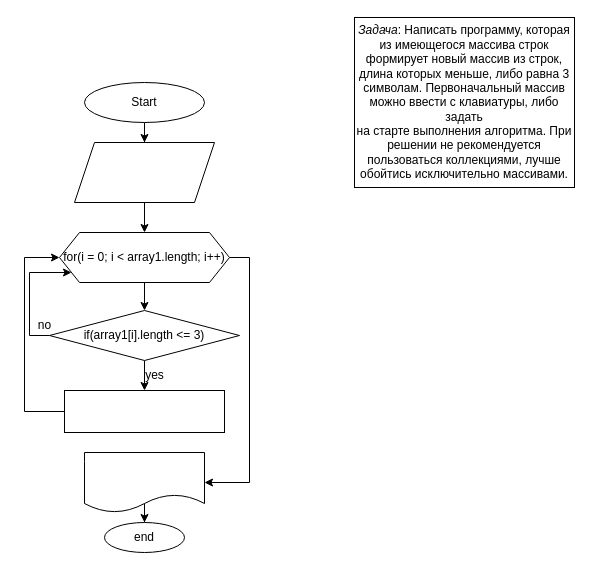
This 592x570 diagram has some shape labels left out. The box of each missing label's shape, as (x1, y1, x2, y2) in pixels:
array2[count] = array1[i]; count++;: (64, 390, 224, 432)
Print (string[] array2): (84, 452, 204, 512)
string[] array1 string[] array2 int count = 0: (74, 142, 214, 202)
